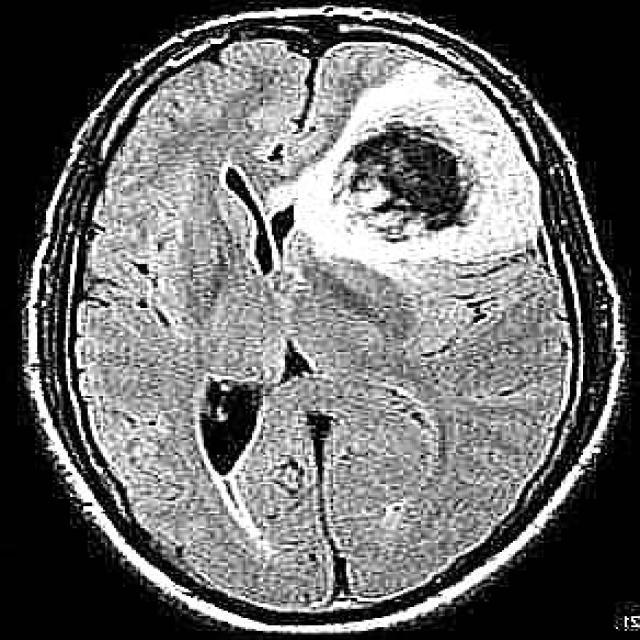Tumor-Cell: (327, 84, 476, 253)
